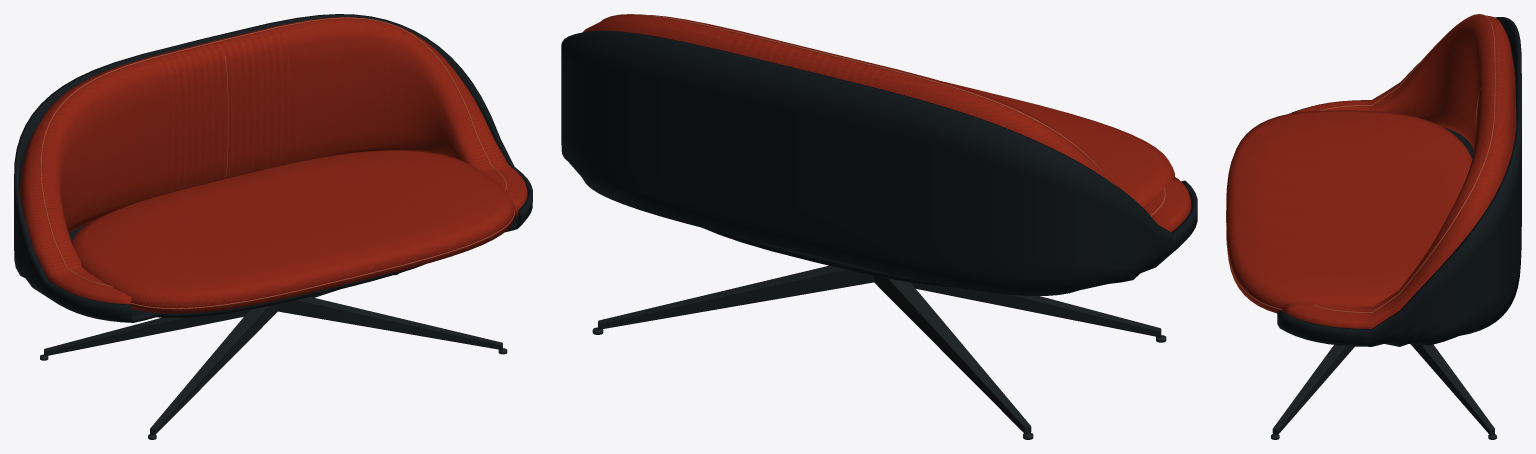
The model's file is lod1_source.glb.
The picture shows the model from 3 angles, left to right: view 1: azimuth 30°, elevation 25°; view 2: azimuth 150°, elevation 25°; view 3: azimuth 270°, elevation 25°; orthographic projection. The views are drawn at different scales.
Visible parts, largest first — view 1: Thick upholstered back and descending side wings, Independent flatter seat cushion with thin front edge, Charcoal outer backing with rolled front ends, Tapered central four star blade 1 -1, Tapered central four star blade -1 -1, Tapered central four star blade -1 1, Fine top edge upholstery welt, Concealed upholstered shell underside, Seat perimeter fine fabric welt; view 2: Charcoal outer backing with rolled front ends, Thick upholstered back and descending side wings, Independent flatter seat cushion with thin front edge, Tapered central four star blade 1 1, Tapered central four star blade -1 1, Tapered central four star blade -1 -1, Concealed upholstered shell underside, Fine top edge upholstery welt; view 3: Independent flatter seat cushion with thin front edge, Thick upholstered back and descending side wings, Charcoal outer backing with rolled front ends, Tapered central four star blade 1 1, Tapered central four star blade 1 -1, Fine top edge upholstery welt.
Boxes of the visible parts, x1=… form: Thick upholstered back and descending side wings: x1=20, y1=17, x2=527, y2=311; Independent flatter seat cushion with thin front edge: x1=71, y1=150, x2=514, y2=313; Charcoal outer backing with rolled front ends: x1=14, y1=14, x2=532, y2=322; Tapered central four star blade 1 -1: x1=278, y1=296, x2=502, y2=350; Tapered central four star blade -1 -1: x1=150, y1=304, x2=277, y2=434; Tapered central four star blade -1 1: x1=44, y1=309, x2=249, y2=356; Fine top edge upholstery welt: x1=40, y1=17, x2=506, y2=286; Concealed upholstered shell underside: x1=157, y1=264, x2=424, y2=317; Seat perimeter fine fabric welt: x1=131, y1=210, x2=514, y2=309; Charcoal outer backing with rolled front ends: x1=561, y1=30, x2=1197, y2=295; Thick upholstered back and descending side wings: x1=582, y1=15, x2=1191, y2=232; Independent flatter seat cushion with thin front edge: x1=941, y1=81, x2=1174, y2=207; Tapered central four star blade 1 1: x1=598, y1=265, x2=873, y2=329; Tapered central four star blade -1 1: x1=874, y1=276, x2=1031, y2=433; Tapered central four star blade -1 -1: x1=910, y1=282, x2=1161, y2=337; Concealed upholstered shell underside: x1=703, y1=228, x2=956, y2=287; Fine top edge upholstery welt: x1=601, y1=14, x2=1165, y2=216; Independent flatter seat cushion with thin front edge: x1=1226, y1=110, x2=1472, y2=313; Thick upholstered back and descending side wings: x1=1282, y1=15, x2=1516, y2=328; Charcoal outer backing with rolled front ends: x1=1277, y1=17, x2=1521, y2=346; Tapered central four star blade 1 1: x1=1411, y1=344, x2=1494, y2=434; Tapered central four star blade 1 -1: x1=1272, y1=345, x2=1354, y2=434; Fine top edge upholstery welt: x1=1312, y1=14, x2=1495, y2=313.
Size of the model in its own units: 1.53 by 0.852 by 0.8307.
5 materials, 1 textured.
